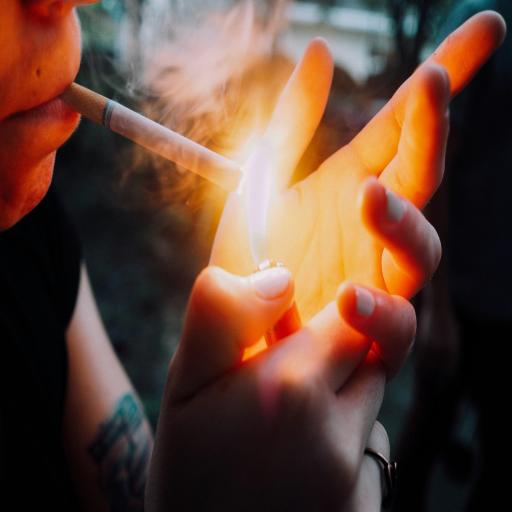fire: (241, 142, 279, 254)
lighter: (232, 126, 322, 393)
